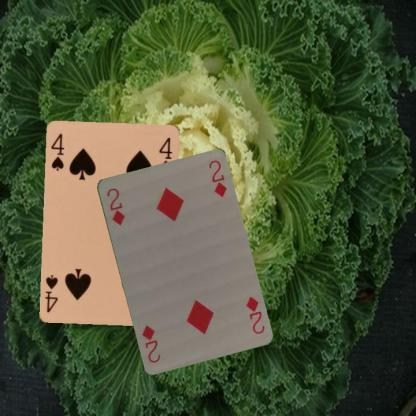2d: (243, 294, 266, 336), (104, 184, 126, 226)
4s: (48, 131, 66, 173)
